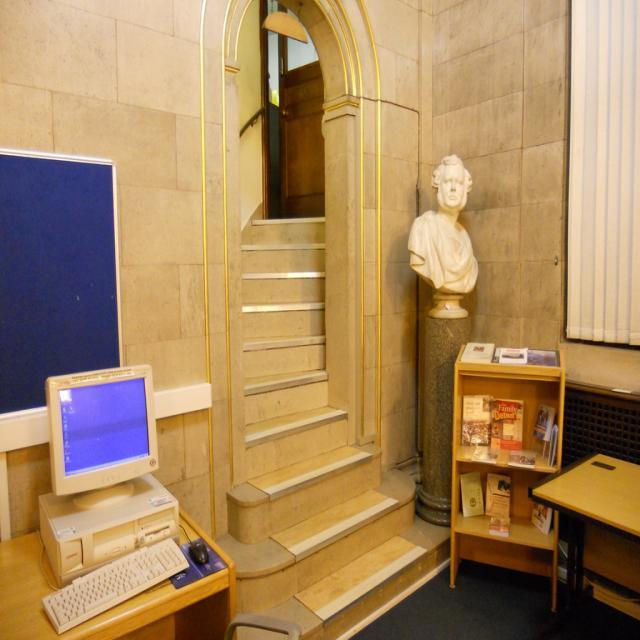others: (443, 325, 640, 635), (23, 366, 236, 626)
